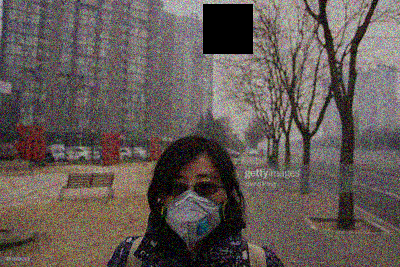with_mask: (161, 170, 227, 248)
